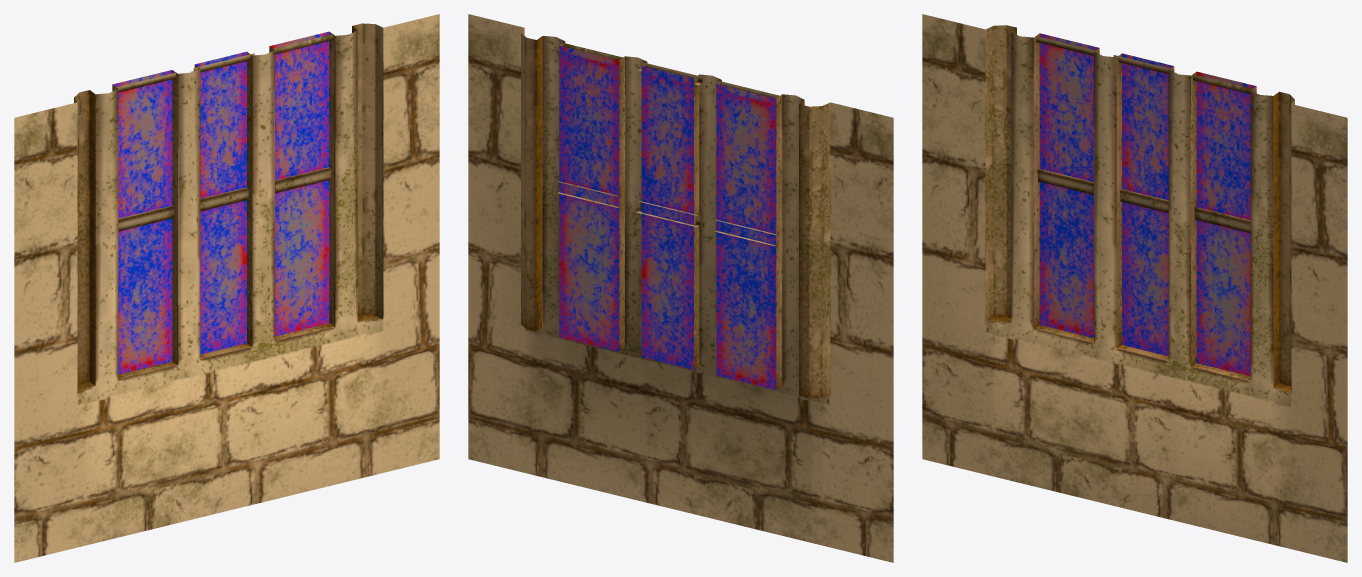
File: SM_BaseVentanal.fbx
3 renders of one model, left to right at view 1: azimuth 30°, elevation 25°; view 2: azimuth 150°, elevation 25°; view 3: azimuth 330°, elevation 25°, orthographic.
Parts seen in each view (by area): view 1: SM_BaseVentanal; view 2: SM_BaseVentanal; view 3: SM_BaseVentanal.
Boxes of the visible parts, x1=… form: SM_BaseVentanal: x1=14, y1=14, x2=439, y2=562; SM_BaseVentanal: x1=468, y1=14, x2=893, y2=562; SM_BaseVentanal: x1=922, y1=14, x2=1347, y2=562.
Size of the model in its own units: 300 by 300 by 13.91.
